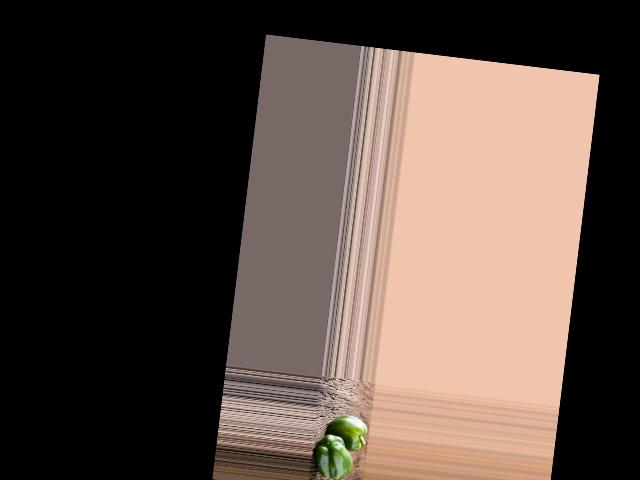bell_pepper: (314, 431, 357, 480)
